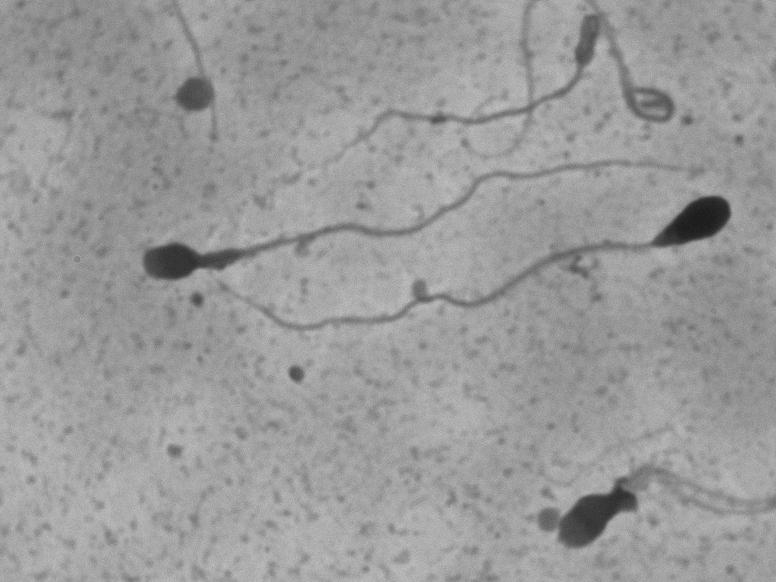Abnormal: (491, 177, 758, 334), (114, 159, 394, 292), (520, 427, 743, 569)
